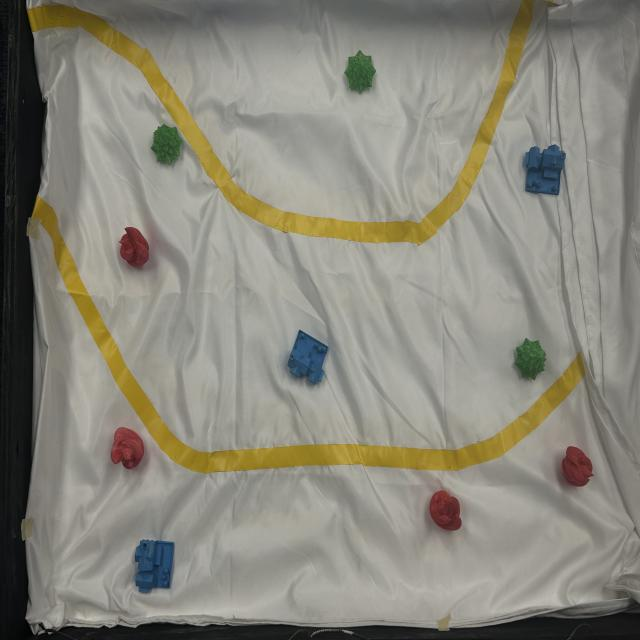fire: (111, 425, 145, 470), (428, 489, 462, 533), (120, 225, 152, 270), (562, 446, 594, 487)
house: (133, 536, 175, 596), (286, 329, 328, 387), (524, 144, 566, 194)
tree: (515, 336, 546, 382), (345, 50, 377, 94), (150, 124, 183, 166)
